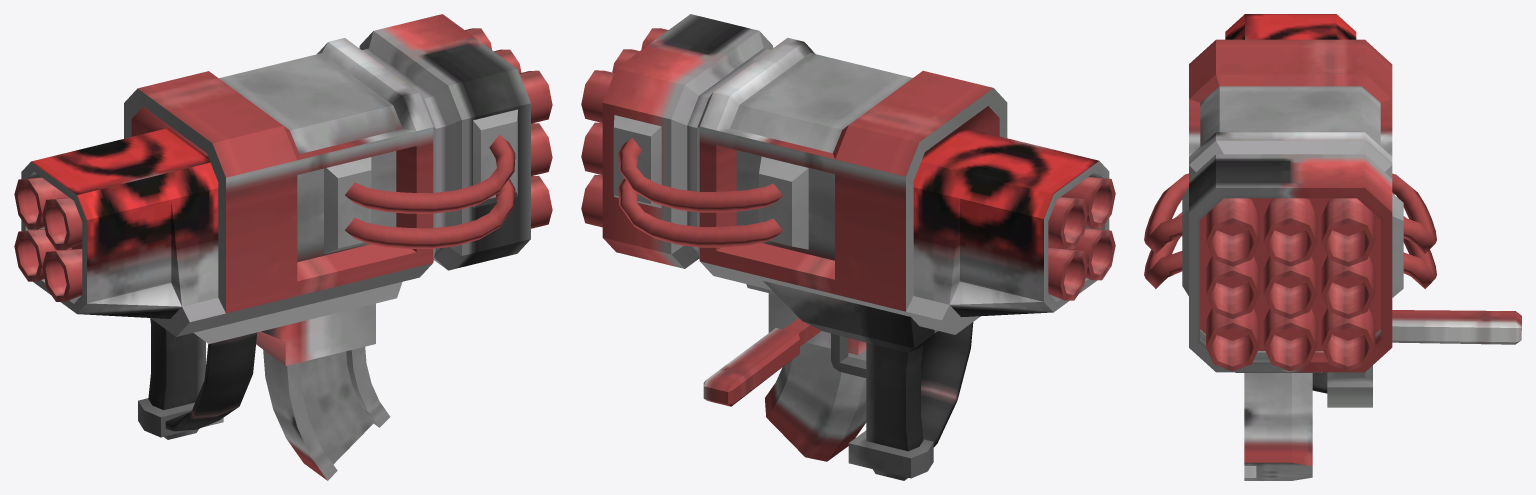
The model's file is ryno.obj.
3 views of the same model, side by side, from view 1: azimuth 30°, elevation 25°; view 2: azimuth 150°, elevation 25°; view 3: azimuth 270°, elevation 25° (orthographic).
Parts seen in each view (by area): view 1: Mesh0; view 2: Mesh0; view 3: Mesh0.
Boxes of the visible parts, bbox=[...] form: Mesh0: bbox=[14, 14, 552, 480]; Mesh0: bbox=[581, 14, 1115, 480]; Mesh0: bbox=[1144, 14, 1521, 480].
Size of the model in its own units: 30.06 by 23.32 by 21.11.
